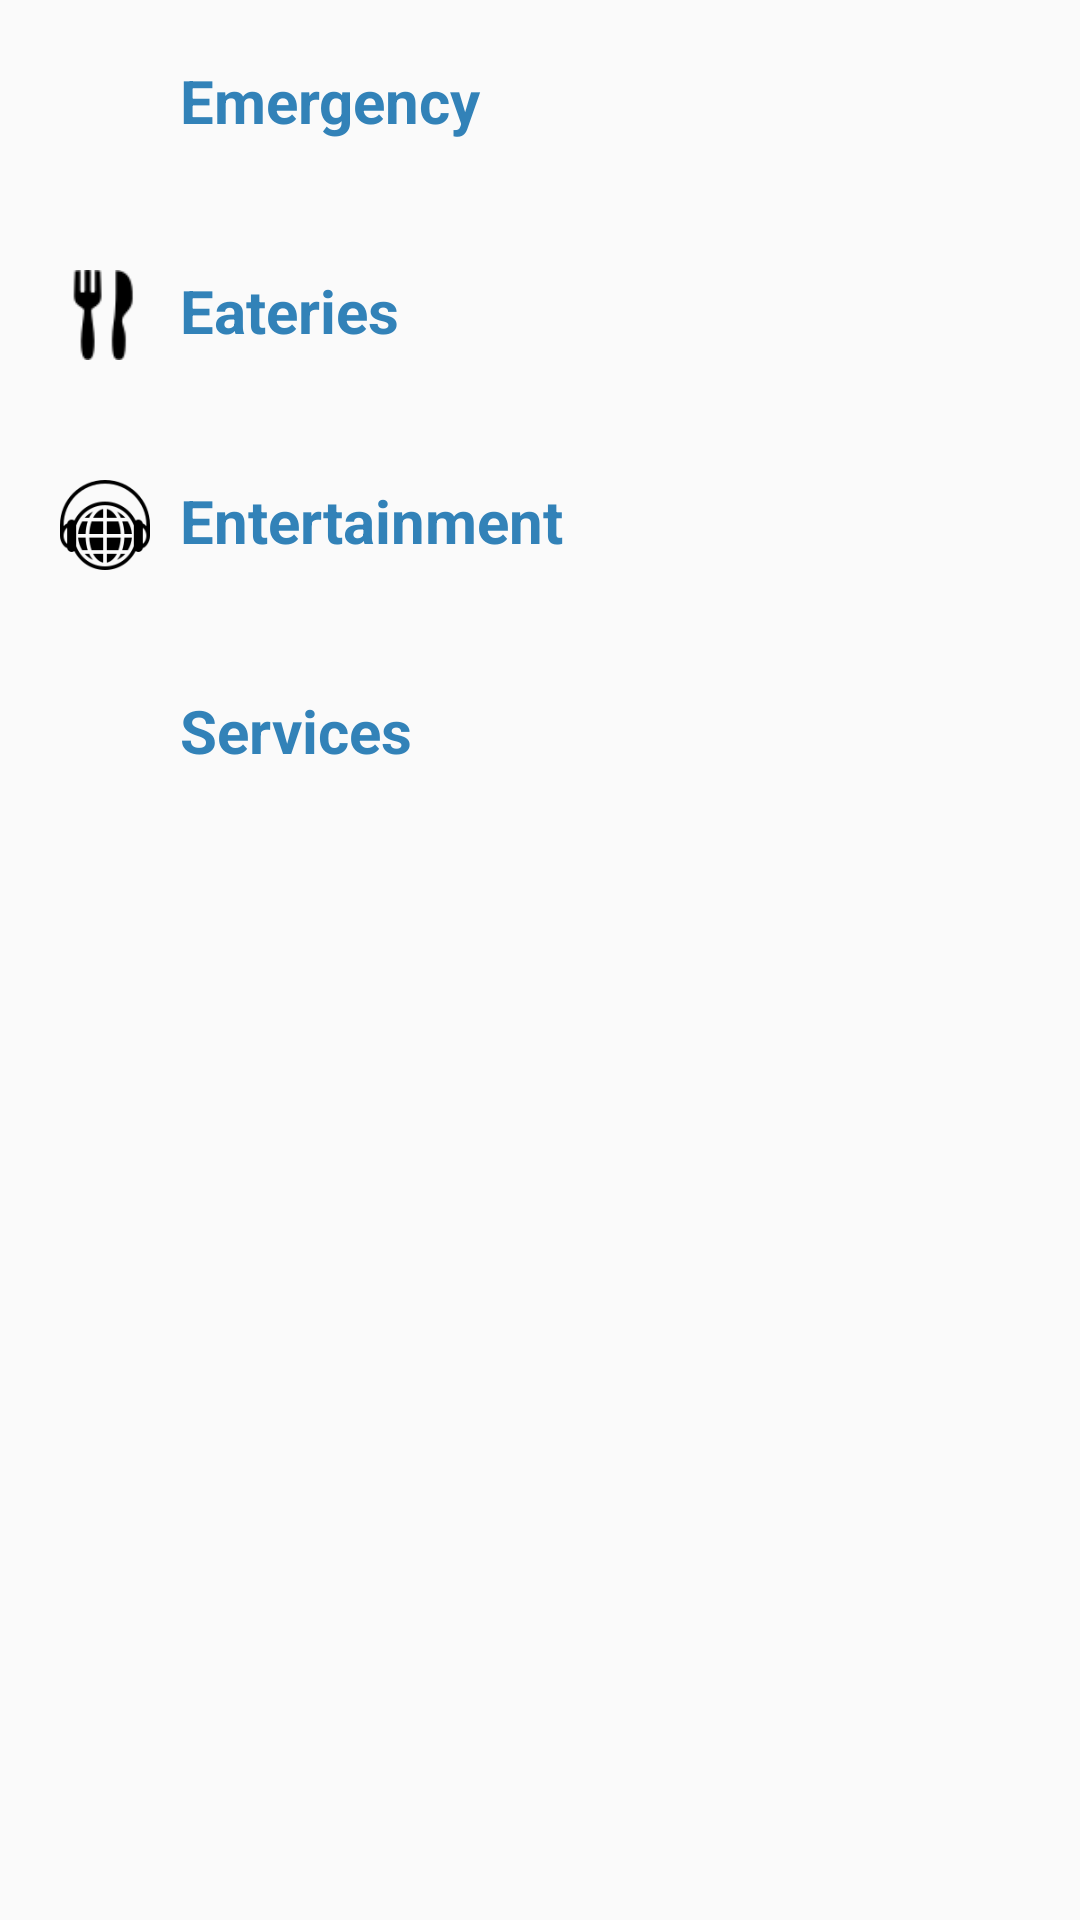

Named icons in this screenshot (1080 x 1920) and their centers, (x=x, y=y):
restaurant: (x=103, y=315)
